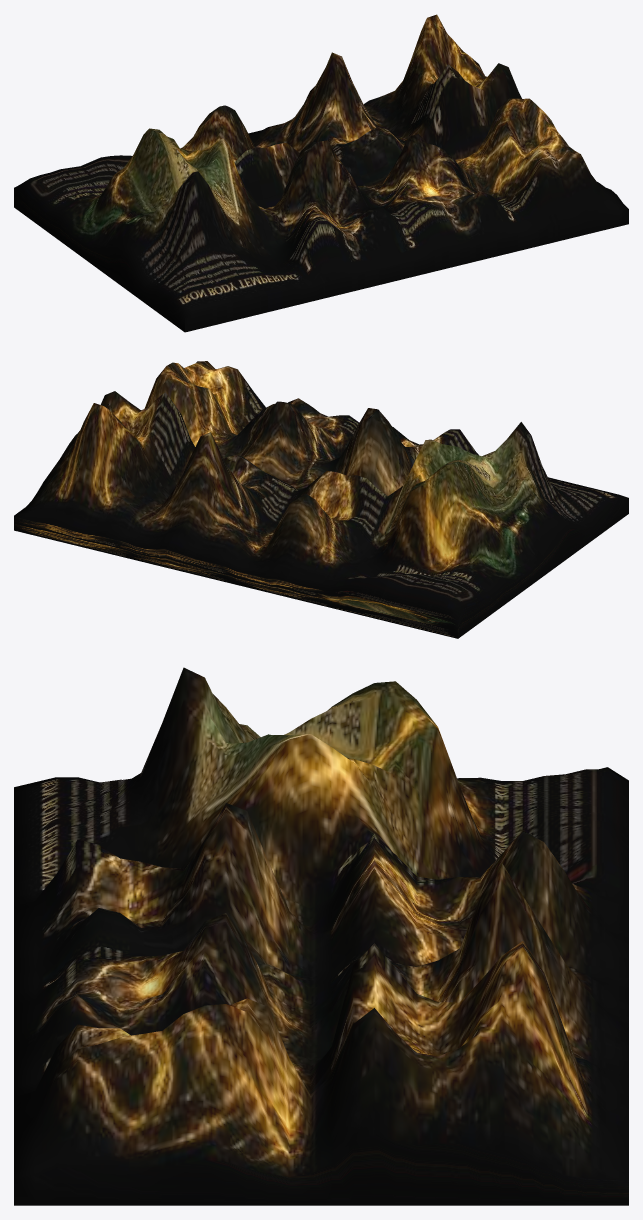
The model's file is CUL_03_Iron_Body_Tempering.glb.
3 views of the same model, one above another, from view 1: azimuth 30°, elevation 25°; view 2: azimuth 150°, elevation 25°; view 3: azimuth 270°, elevation 25° (orthographic). The views are drawn at different scales.
Parts seen in each view (by area): view 1: CUL_03_Iron_Body_Tempering; view 2: CUL_03_Iron_Body_Tempering; view 3: CUL_03_Iron_Body_Tempering.
Part boxes in pixels (x1=…): CUL_03_Iron_Body_Tempering: x1=14, y1=14, x2=628, y2=332; CUL_03_Iron_Body_Tempering: x1=14, y1=361, x2=628, y2=638; CUL_03_Iron_Body_Tempering: x1=14, y1=667, x2=628, y2=1205.
Bounding box in the file's own units: 2 × 0.51 × 1.33.
Materials: 1 (1 with a texture image).
